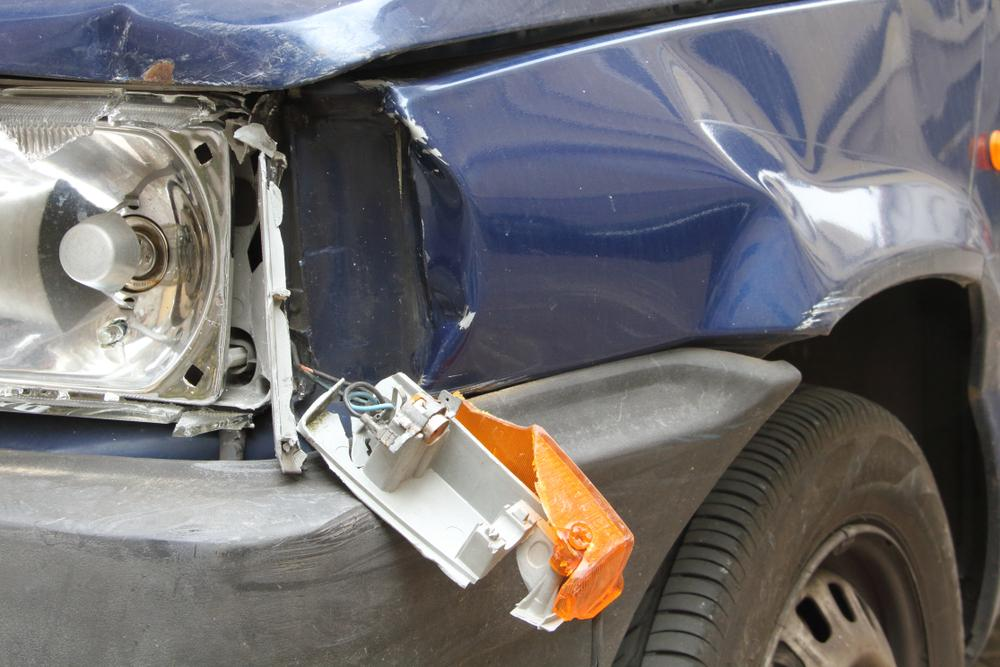dent: (532, 28, 938, 327), (20, 4, 253, 80)
lamp broken: (0, 82, 306, 425)
